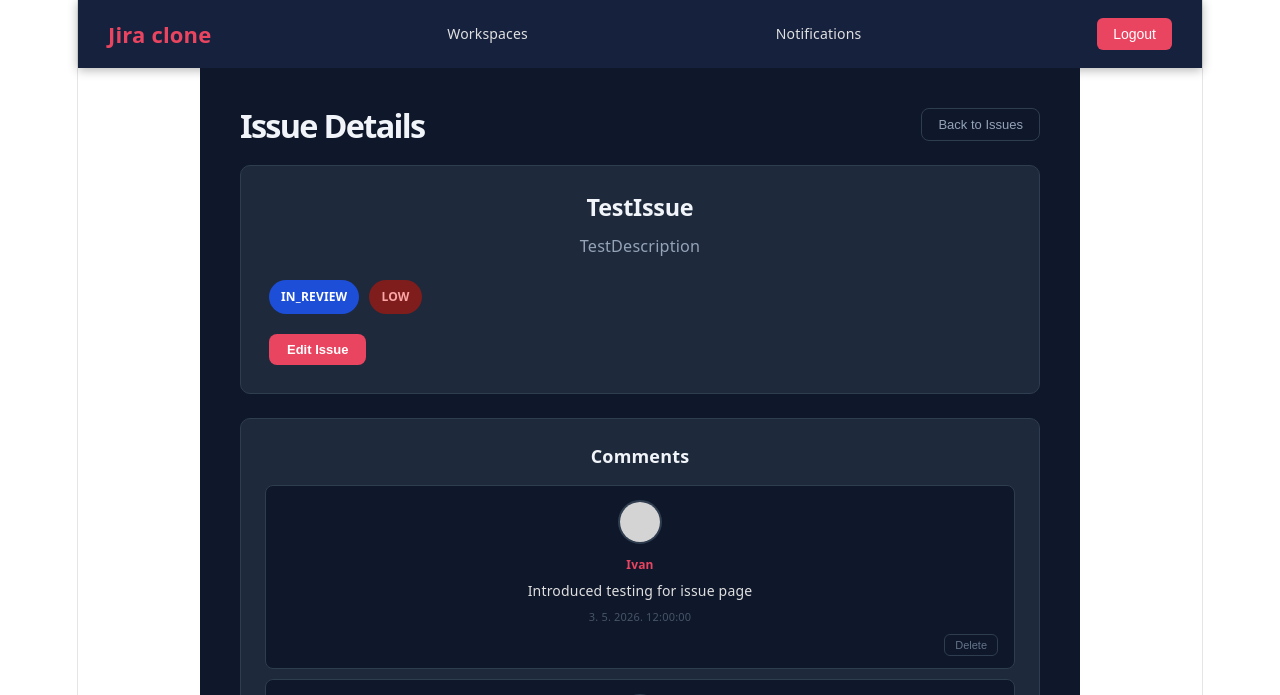
Test: IssuePage › should delete comment
Expected: the text "Introduced testing for issue page" is shown, [528,581,752,600]
What coordinates should you click on to do the following:
click the button "Delete"
I would click on:
 (971, 645)
Its box is [944,634,998,656].
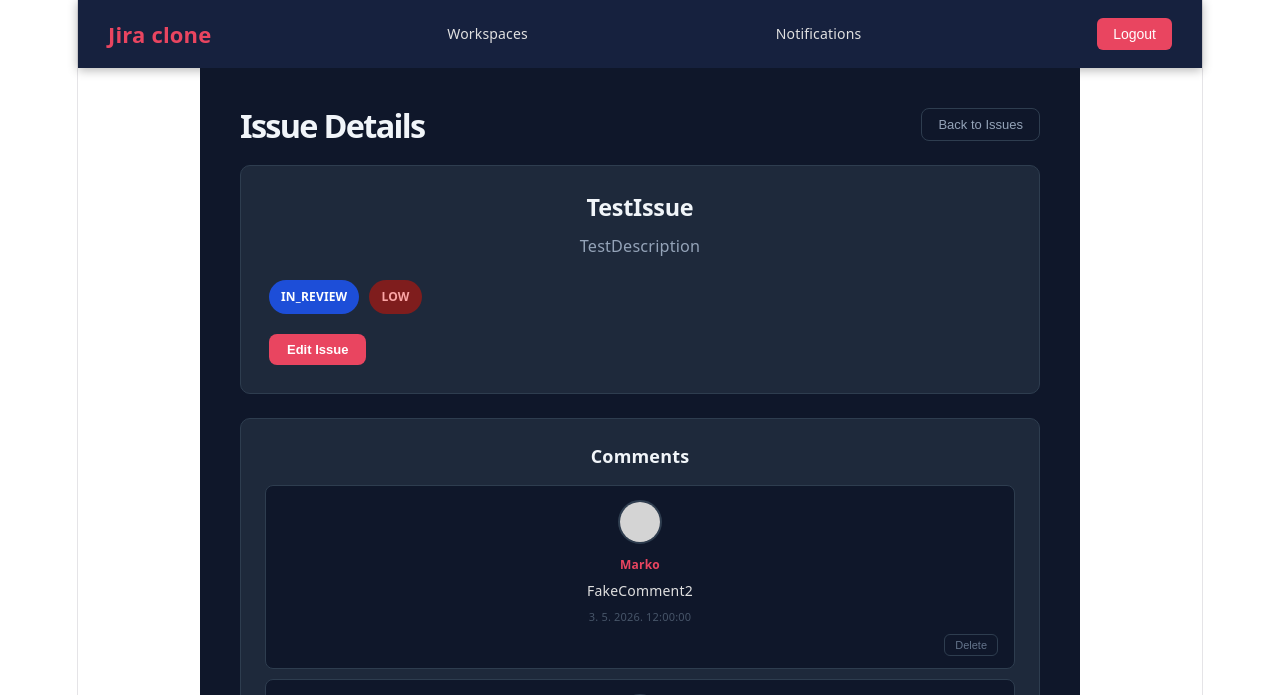
Expected: the text "Introduced testing for issue page" is gone
